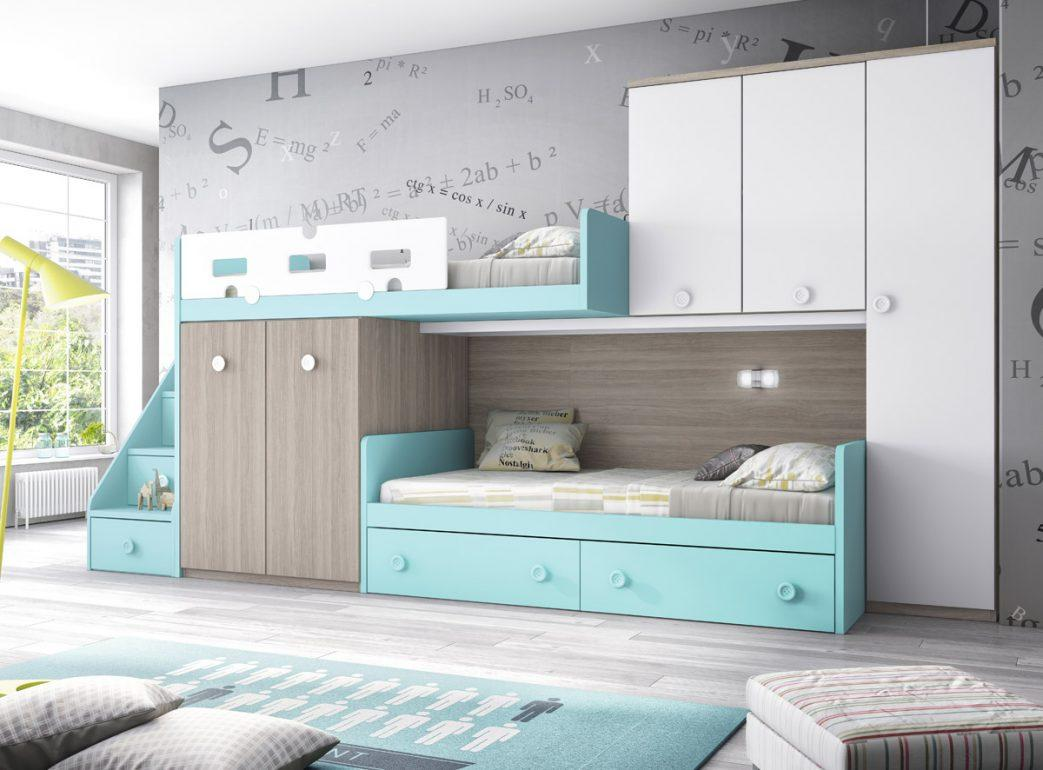bed: (365, 348, 865, 573)
